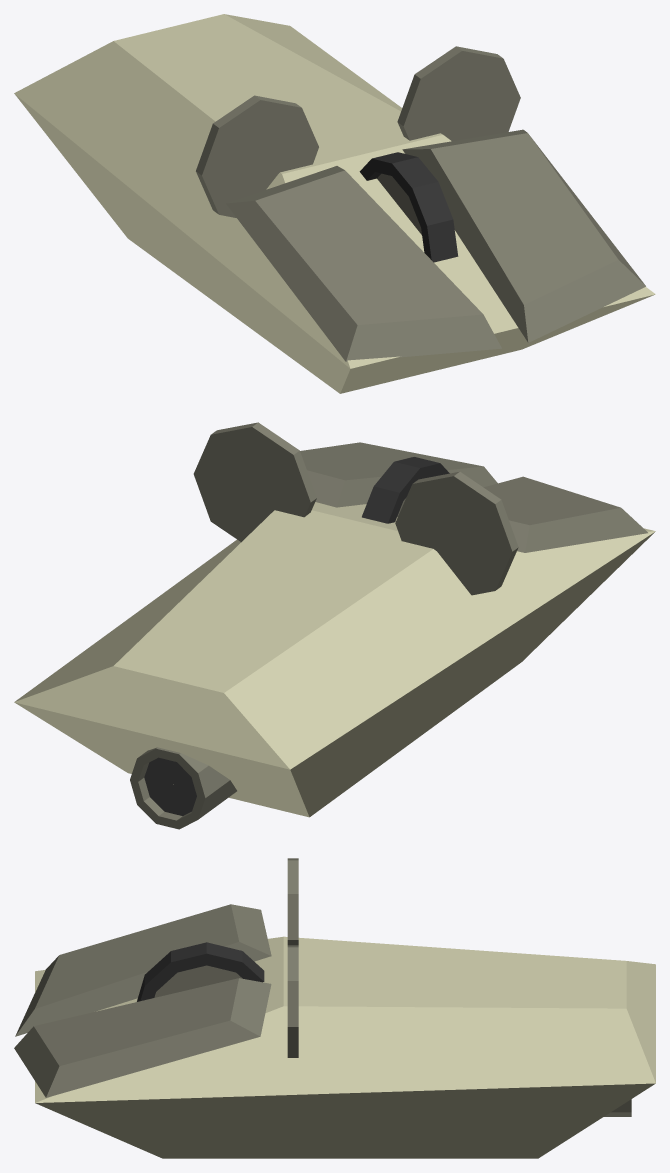
File: SM_Mouse.fbx
3 views of the same model, one above another, from view 1: azimuth 30°, elevation 25°; view 2: azimuth 150°, elevation 25°; view 3: azimuth 270°, elevation 25° (orthographic). The views are drawn at different scales.
Parts seen in each view (by area): view 1: pCube1; view 2: pCube1; view 3: pCube1.
Part boxes in pixels (x1,y1,x2,y2): pCube1: (14,14,655,393); pCube1: (14,422,655,829); pCube1: (14,858,655,1158).
Size of the model in its own units: 3.53 by 2.58 by 6.96.
